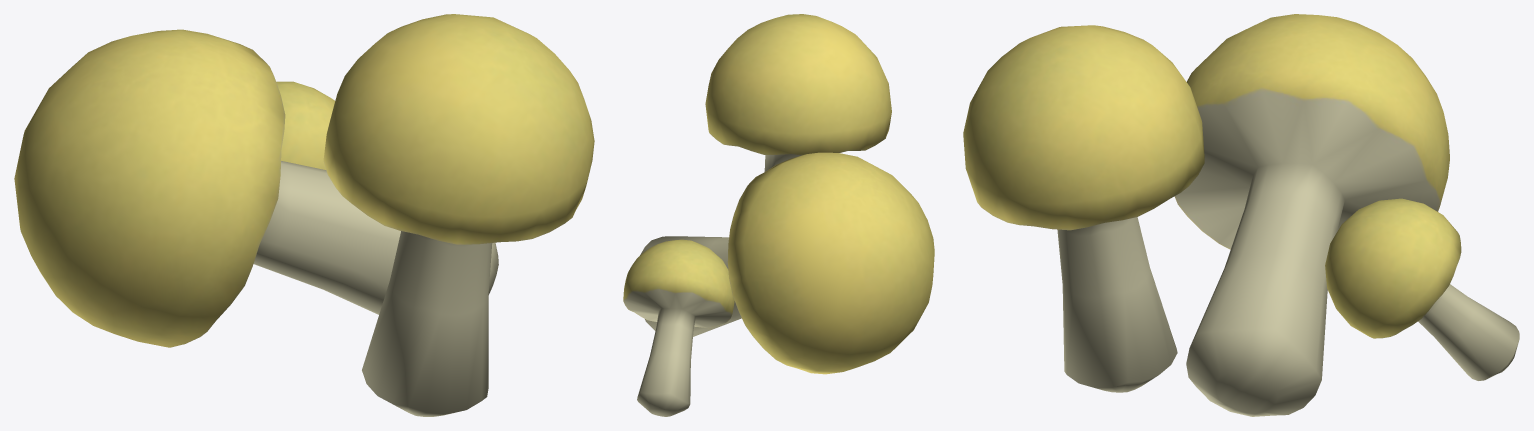
File: yellow_mushrooms.fbx
The picture shows the model from 3 angles, left to right: view 1: azimuth 30°, elevation 25°; view 2: azimuth 150°, elevation 25°; view 3: azimuth 270°, elevation 25°; orthographic projection. The views are drawn at different scales.
Visible parts, largest first — view 1: mushroom blue, mushroom blue.001, mushroom blue.002; view 2: mushroom blue, mushroom blue.001, mushroom blue.002; view 3: mushroom blue, mushroom blue.001, mushroom blue.002.
Boxes of the visible parts, x1=… form: mushroom blue: x1=14, y1=29, x2=498, y2=347; mushroom blue.001: x1=323, y1=14, x2=594, y2=416; mushroom blue.002: x1=276, y1=81, x2=335, y2=169; mushroom blue: x1=640, y1=152, x2=934, y2=374; mushroom blue.001: x1=705, y1=14, x2=891, y2=171; mushroom blue.002: x1=623, y1=239, x2=734, y2=416; mushroom blue: x1=1174, y1=14, x2=1449, y2=416; mushroom blue.001: x1=963, y1=25, x2=1204, y2=392; mushroom blue.002: x1=1325, y1=198, x2=1519, y2=380.
Bounding box in the file's own units: 14.28 × 12.67 × 18.02.
